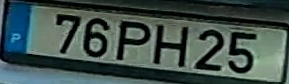2: (192, 27, 225, 73)
5: (226, 30, 258, 74)
6: (80, 16, 111, 59)
7: (53, 11, 83, 56)
H: (150, 22, 191, 69)
P: (114, 18, 151, 62)
